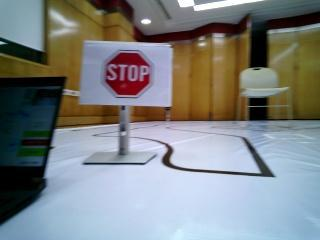stop: (84, 43, 169, 102)
